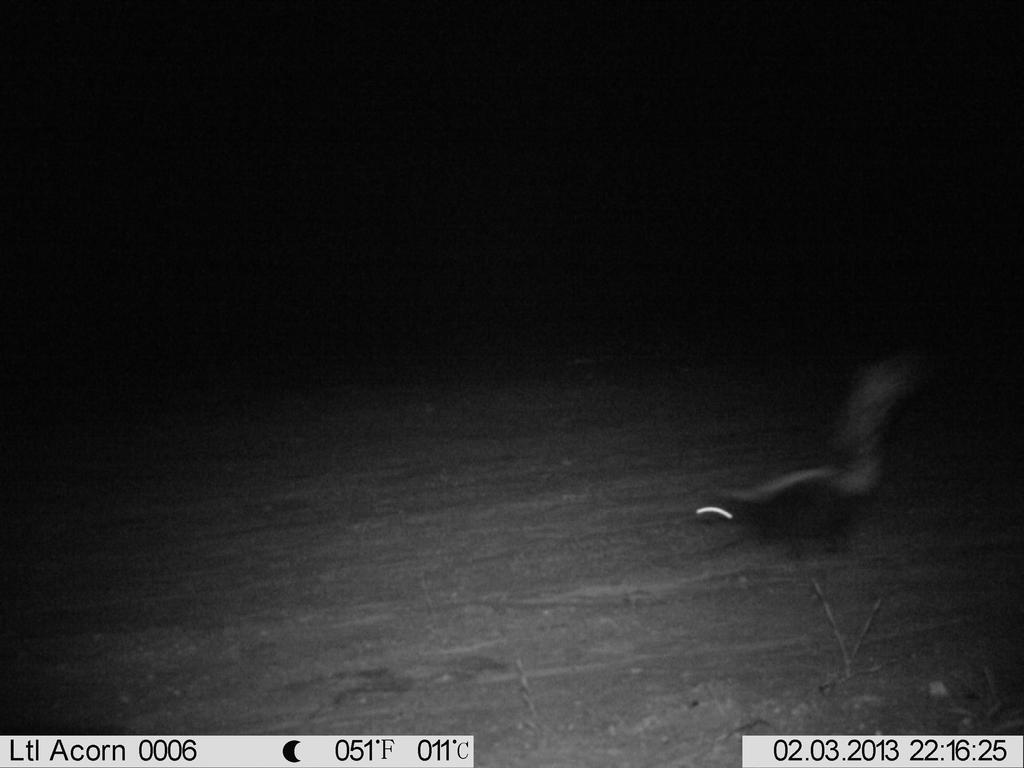skunk: (684, 342, 948, 567)
